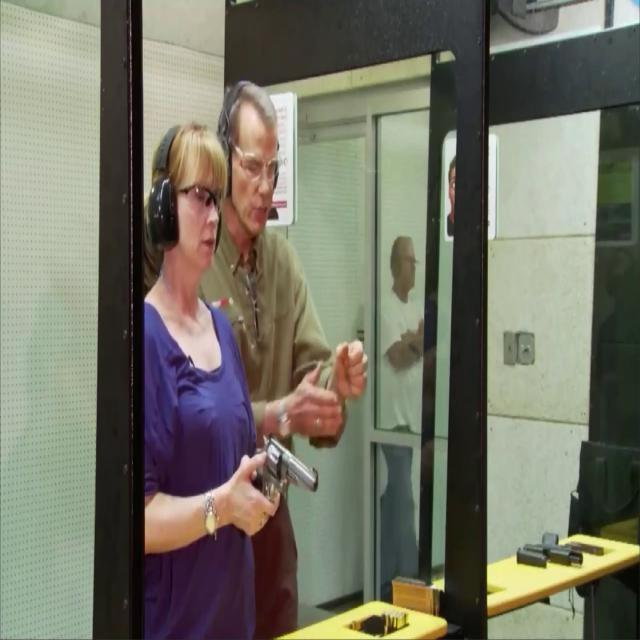weapon: (250, 436, 320, 507)
